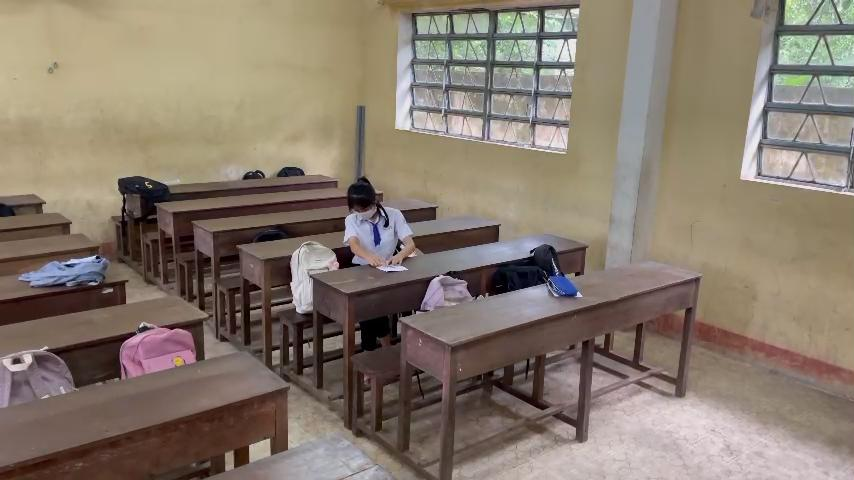Bend Over The Desk: (337, 171, 391, 222)
